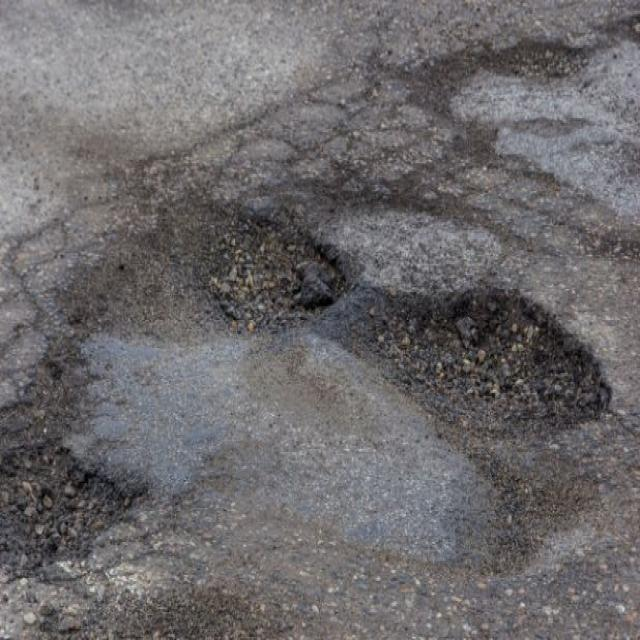pothole: (342, 274, 614, 450), (48, 188, 358, 340), (0, 432, 151, 575)
